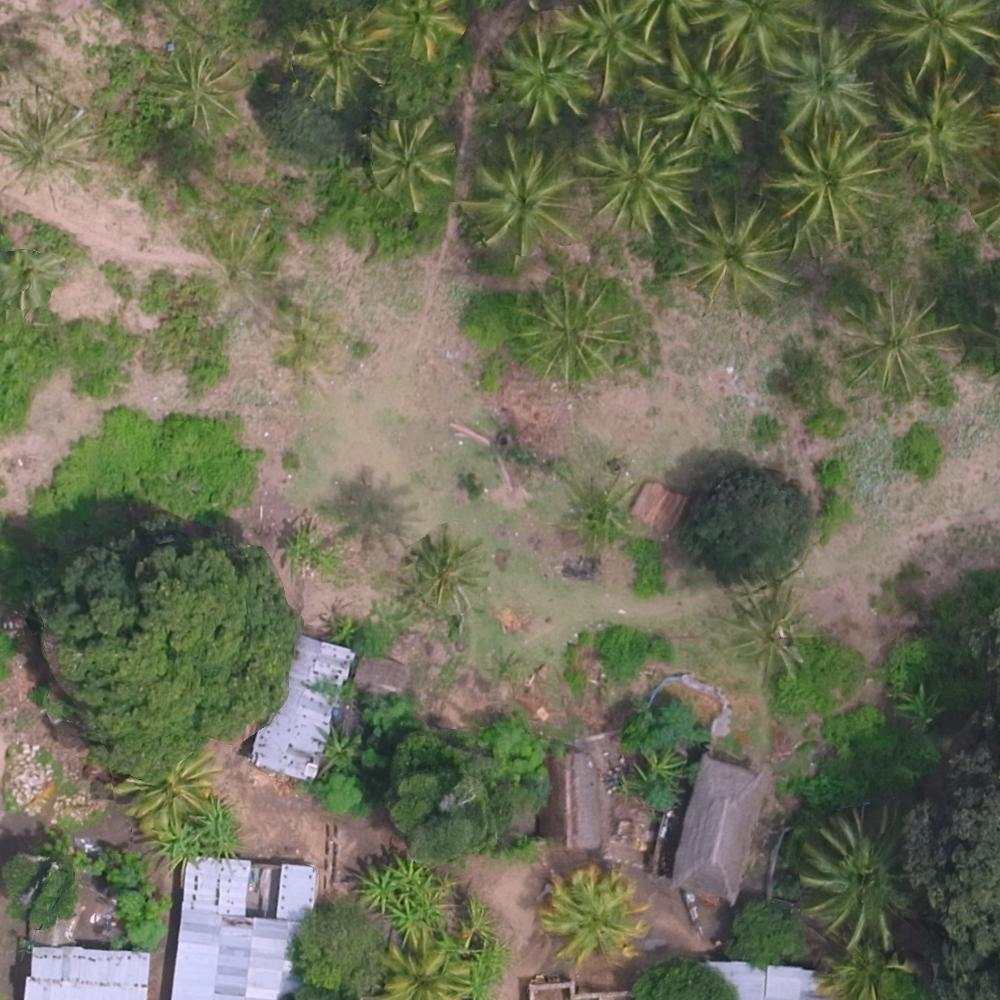Palm: (808, 811, 918, 954), (463, 133, 581, 256), (577, 114, 695, 235), (676, 192, 795, 305), (771, 130, 886, 236), (650, 39, 757, 145), (884, 71, 988, 179), (843, 288, 948, 392), (522, 275, 627, 378), (1, 97, 103, 200), (552, 6, 664, 98), (774, 31, 880, 128), (488, 28, 591, 127), (870, 1, 998, 80), (541, 871, 643, 962), (725, 584, 819, 677), (149, 44, 242, 132), (365, 119, 452, 201), (294, 15, 379, 97), (408, 529, 485, 605), (373, 1, 465, 58)
